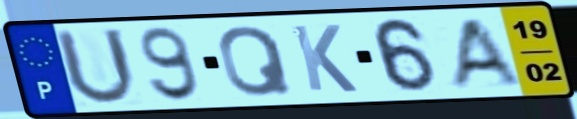6: (371, 15, 442, 97)
9: (137, 24, 204, 105)
A: (445, 15, 525, 92)
K: (288, 23, 361, 95)
Q: (216, 24, 297, 100)
U: (51, 26, 140, 109)
